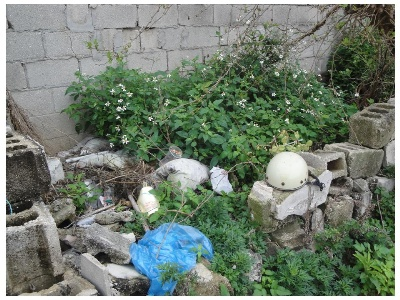plastic_bag: (129, 216, 216, 298)
